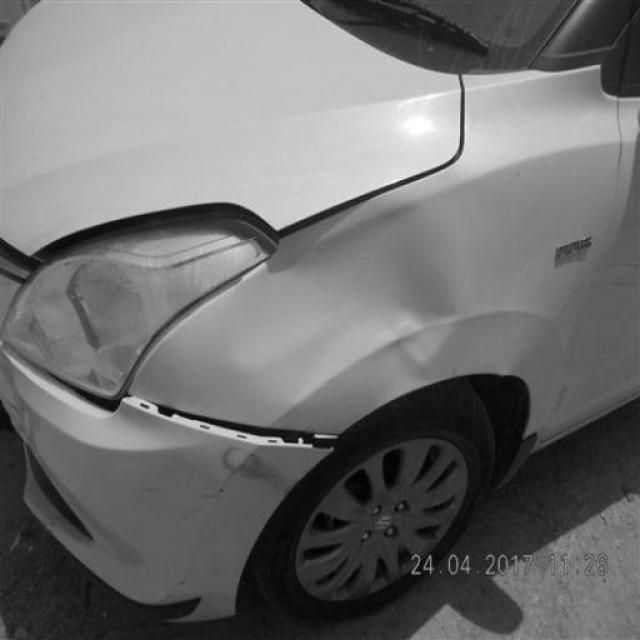dent: (340, 196, 464, 378)
misalignment: (118, 388, 339, 453)
scratch: (217, 443, 298, 500)
